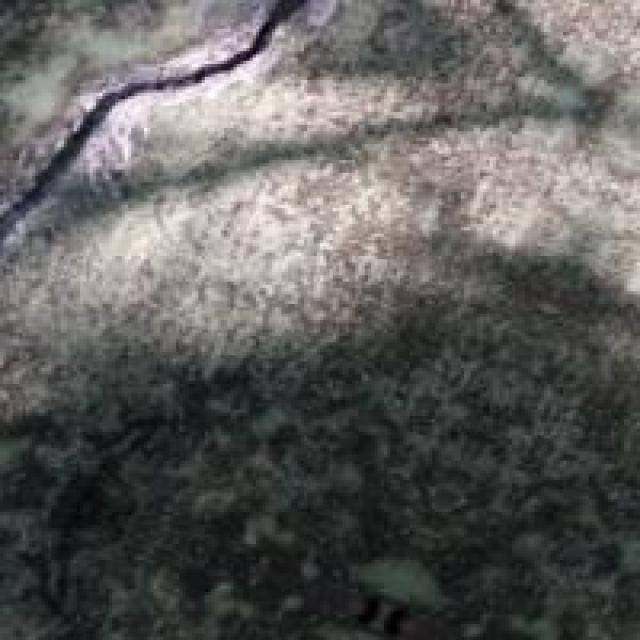Crack: (6, 0, 352, 288)
